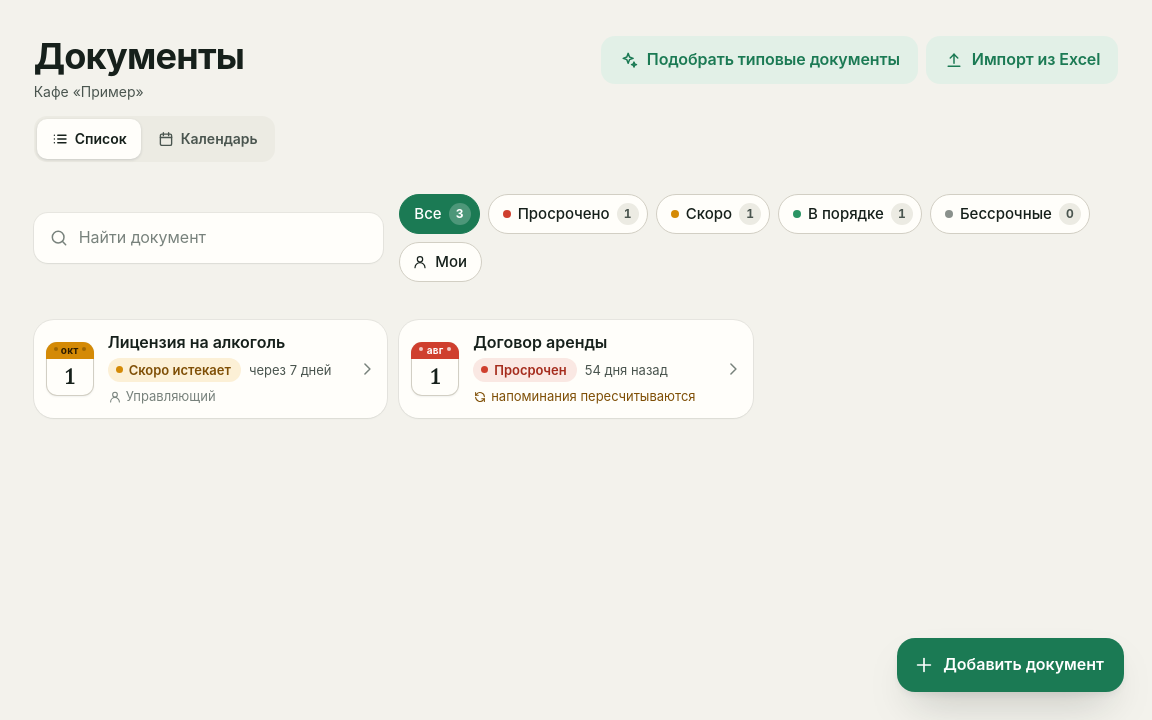
Test: T-FE-PAGE, T-FE-STATE: реестр документов › ищет по названию и показывает пустое состояние поиска
Expected: the text "Лицензия на алкоголь" is shown, [108,332,285,352]
In the search field named "Поиск по названию": (225,238) [69,214,382,262], type "страховка"
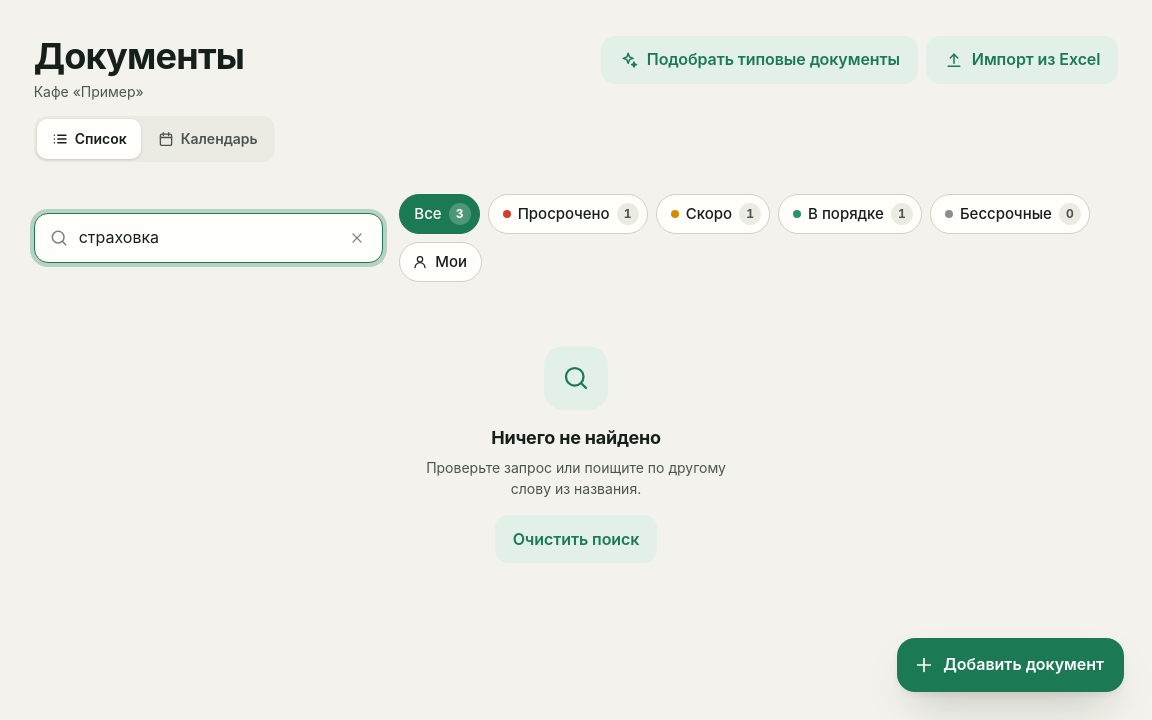
Expected: the heading "Ничего не найдено" is shown, [491,426,661,449]
